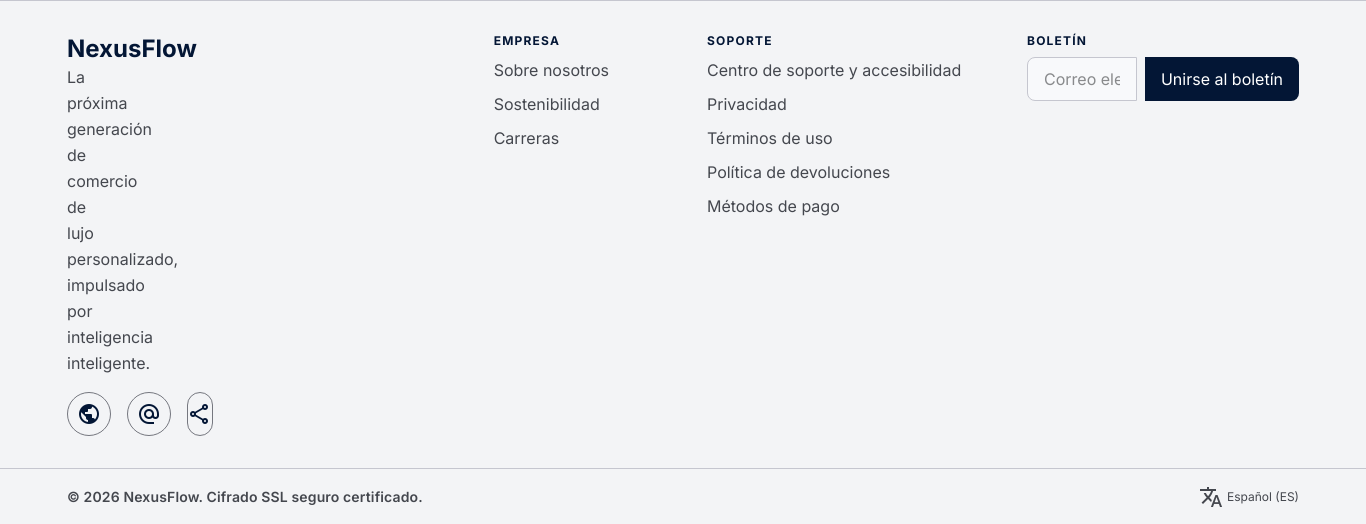
Footer › newsletter form submission shows thank-you message
In the field with placeholder "Correo electrónico": (1082, 79) [1027, 57, 1137, 101], type "test@example.com"
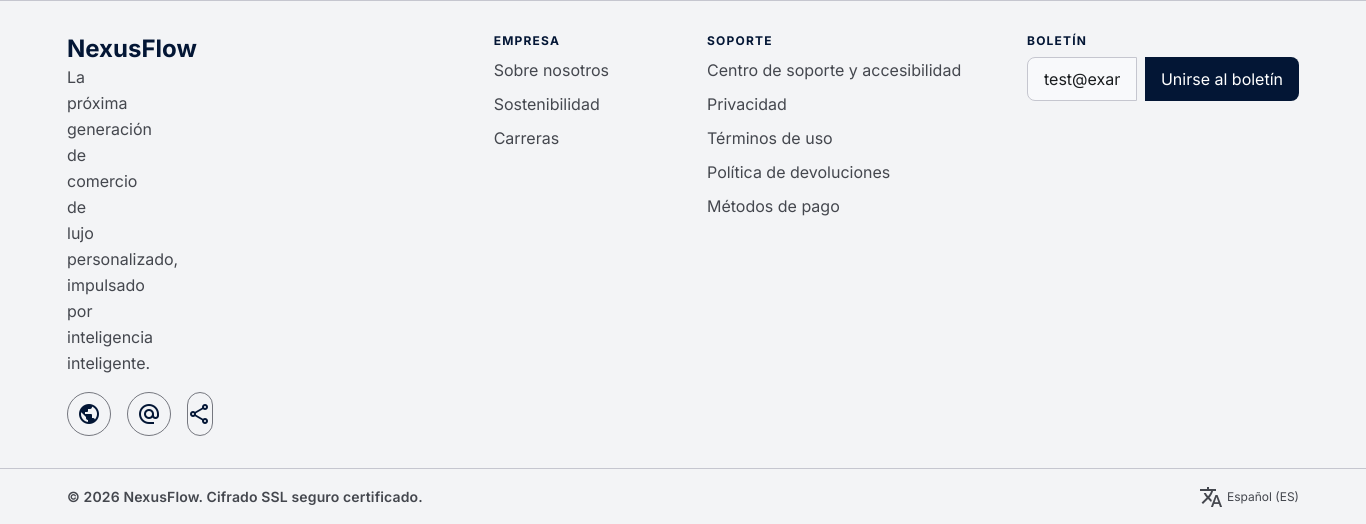
Click the button "Unirse al boletín": (1222, 79) [1145, 57, 1299, 101]
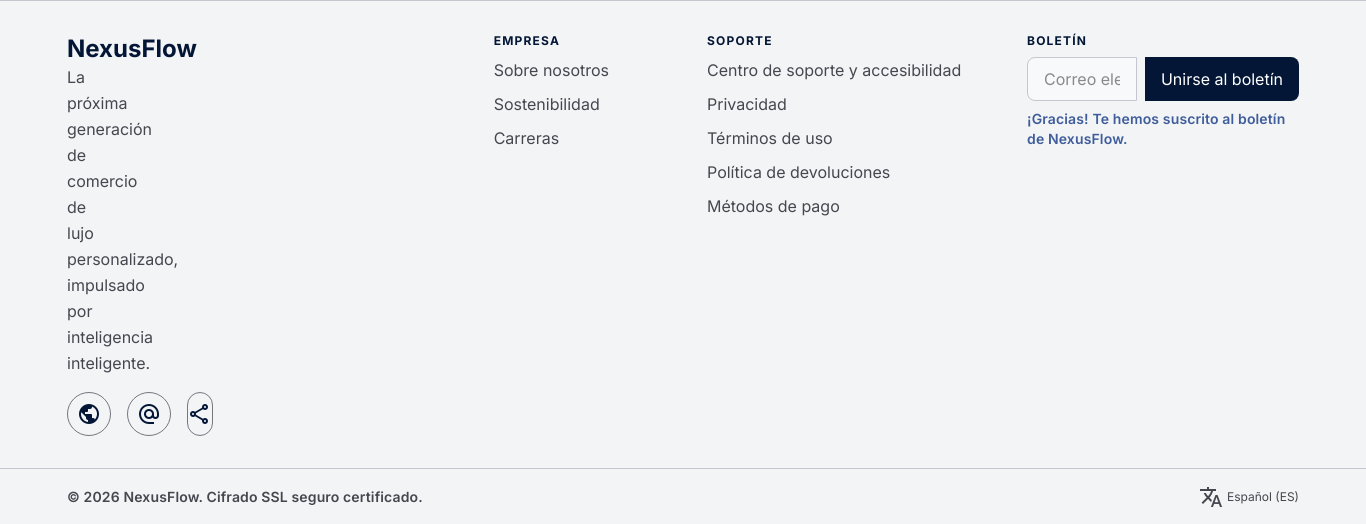
expect the message reads "¡Gracias! Te hemos suscrito al boletín de NexusFlow.": met, box [1027, 110, 1285, 147]
